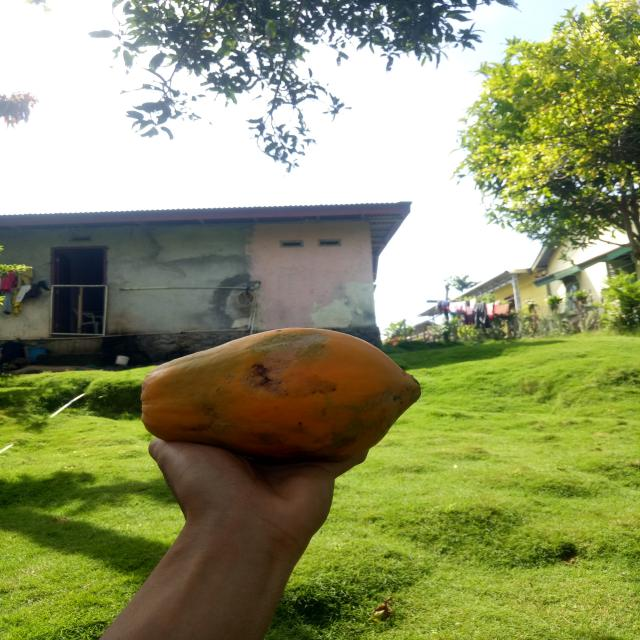Pepaya rippen: (133, 328, 426, 462)
